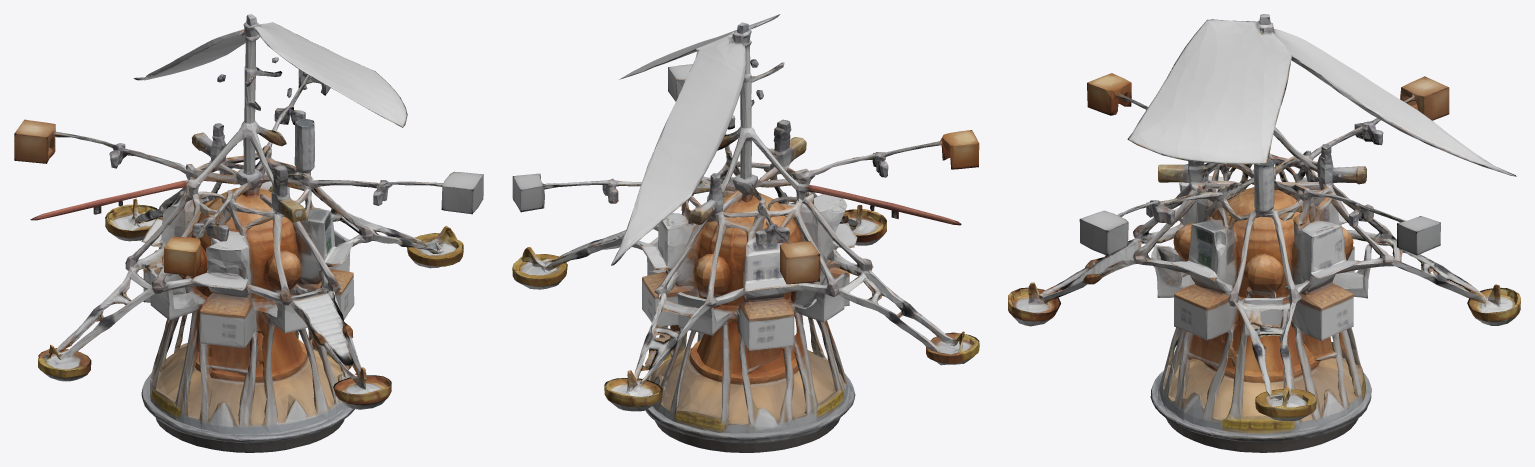
The model's file is surveyor 7.glb.
3 views of the same model, side by side, from view 1: azimuth 30°, elevation 25°; view 2: azimuth 150°, elevation 25°; view 3: azimuth 270°, elevation 25° (orthographic). The views are drawn at different scales.
Parts seen in each view (by area): view 1: world; view 2: world; view 3: world.
Boxes of the visible parts, x1,y1,x2,y2 form: world: (14,14,483,452); world: (512,14,979,452); world: (1008,14,1520,452).
Size of the model in its own units: 0.9977 by 0.8554 by 0.999.
1 material, 1 textured.
